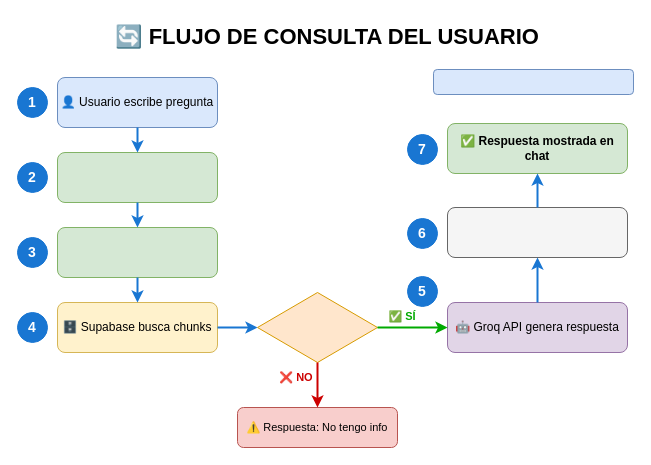
Image size: 651x465. Some labels were removed from this diagram. Here are the shapes that lost their labels. From the top down, the box of each, then its label:
(432, 68, 634, 94): ⏱️ Tiempo total: 2-4 segundos
(56, 152, 218, 202): 🐍 Flask procesa texto
(56, 226, 218, 278): 🔍 RAG genera embedding
(446, 206, 628, 258): 🛡️ Filtro anti-alucinación
(256, 292, 378, 362): ❓ ¿Hay contexto?
